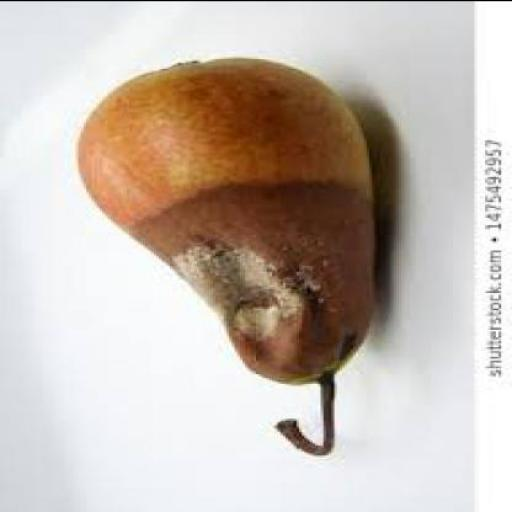biodegradable: (72, 60, 372, 458)
